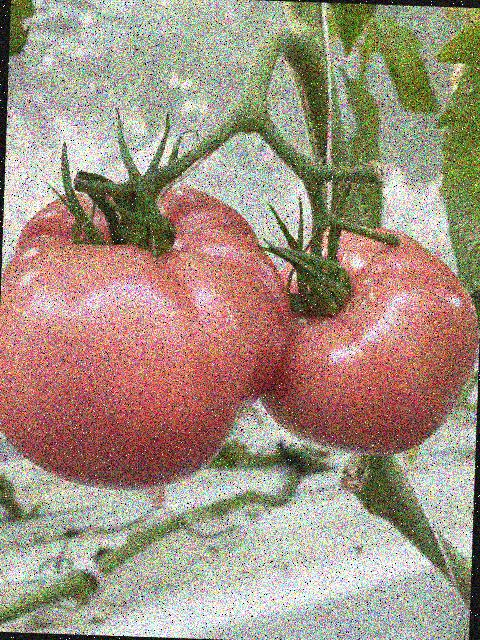b_fully_ripened: (0, 179, 297, 497), (257, 224, 480, 458)
